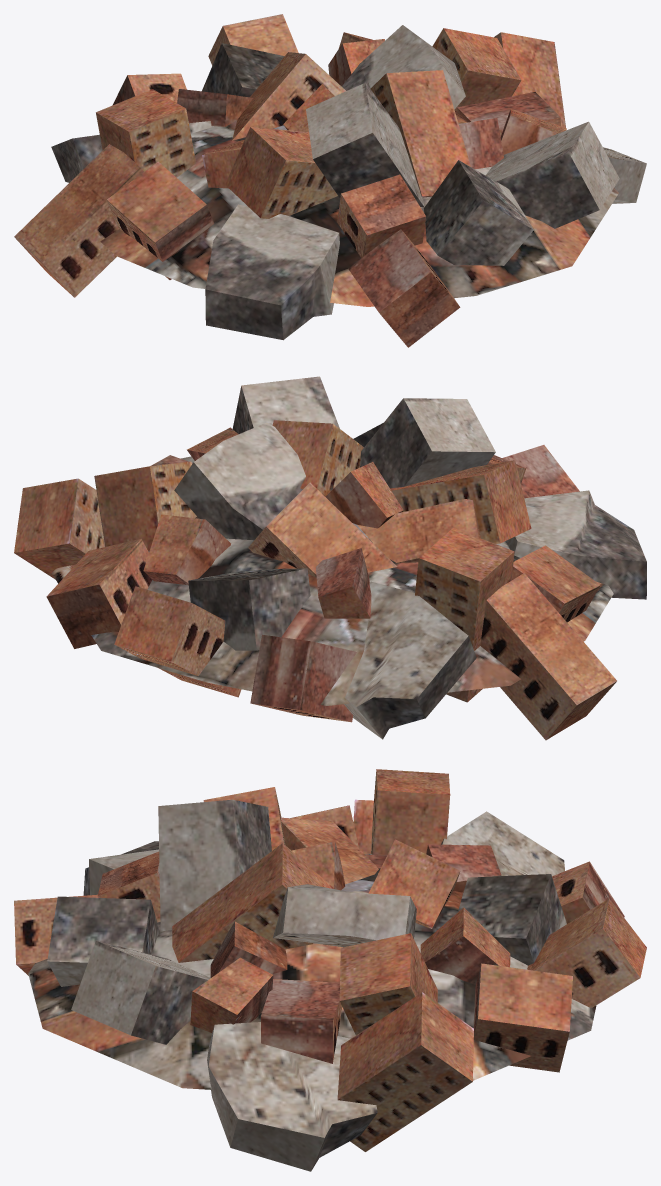
File: Debris2_3.fbx
The picture shows the model from 3 angles, top to bottom: view 1: azimuth 30°, elevation 25°; view 2: azimuth 150°, elevation 25°; view 3: azimuth 270°, elevation 25°; orthographic projection. The views are drawn at different scales.
Parts seen in each view (by area): view 1: polySurface283; view 2: polySurface283; view 3: polySurface283.
Boxes of the visible parts, x1,y1,x2,y2 form: polySurface283: (14,14,646,347); polySurface283: (14,376,646,740); polySurface283: (14,769,646,1171).
Size of the model in its own units: 1.7 by 0.6251 by 1.54.
